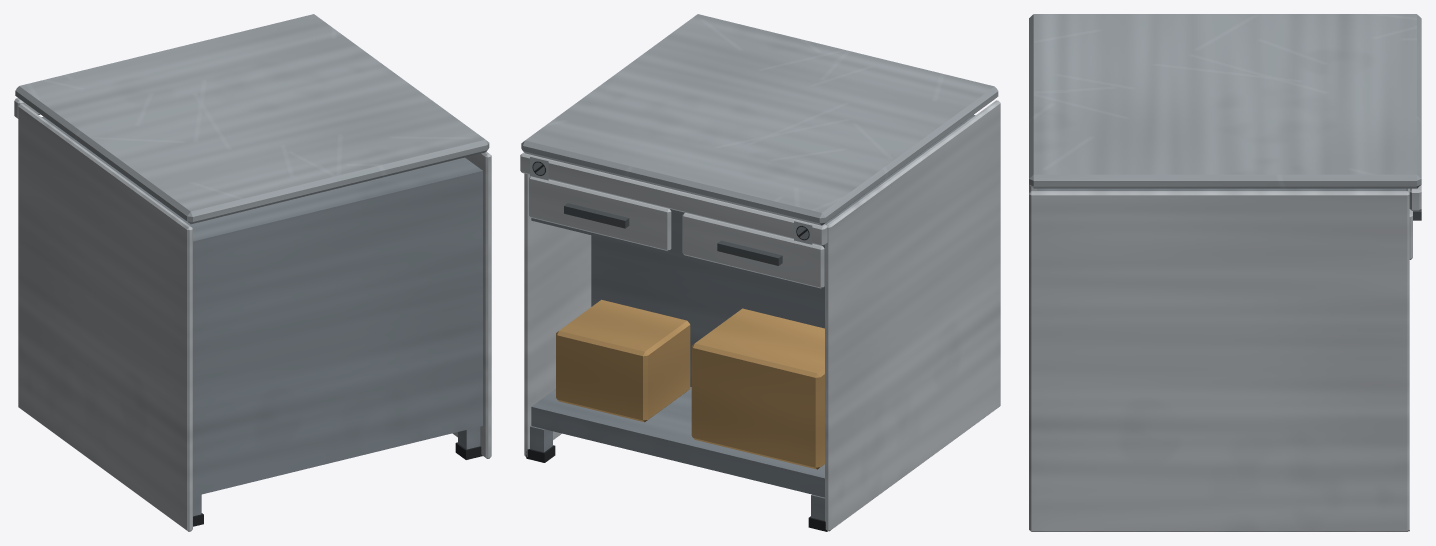
The model's file is counter_corner.glb.
3 renders of one model, left to right at view 1: azimuth 30°, elevation 25°; view 2: azimuth 150°, elevation 25°; view 3: azimuth 270°, elevation 25°, orthographic. The views are drawn at different scales.
Parts seen in each view (by area): view 1: counter_corner_body; view 2: counter_corner_body; view 3: counter_corner_body.
Part boxes in pixels (left/top/right/bottom): counter_corner_body: left=14, top=14, right=491, bottom=531; counter_corner_body: left=520, top=14, right=1000, bottom=531; counter_corner_body: left=1029, top=14, right=1421, bottom=531.
Size of the model in its own units: 1 by 1 by 1.
Materials: 7 (6 with a texture image).
